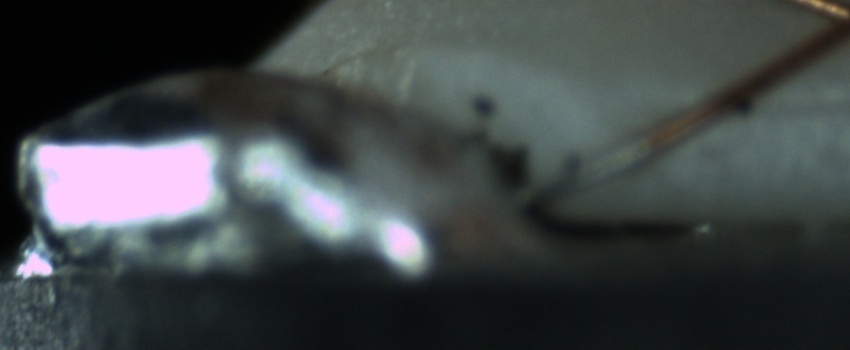CL: (798, 0, 850, 60)
DL: (696, 72, 850, 135)
TS: (520, 133, 651, 208)
